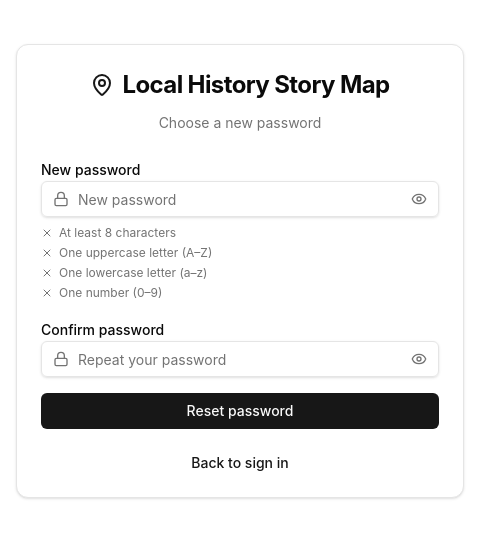
ResetPasswordPage › shows error when password is empty
Click the button "Reset password" at (240, 411), box [41,393,439,429]
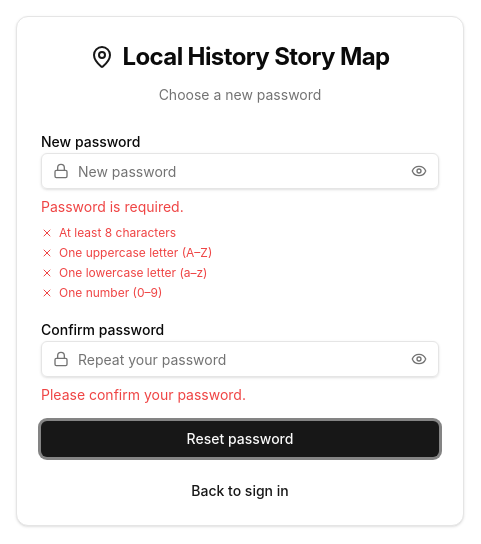
Expected: the text "Password is required." is shown, [41,198,184,215]
